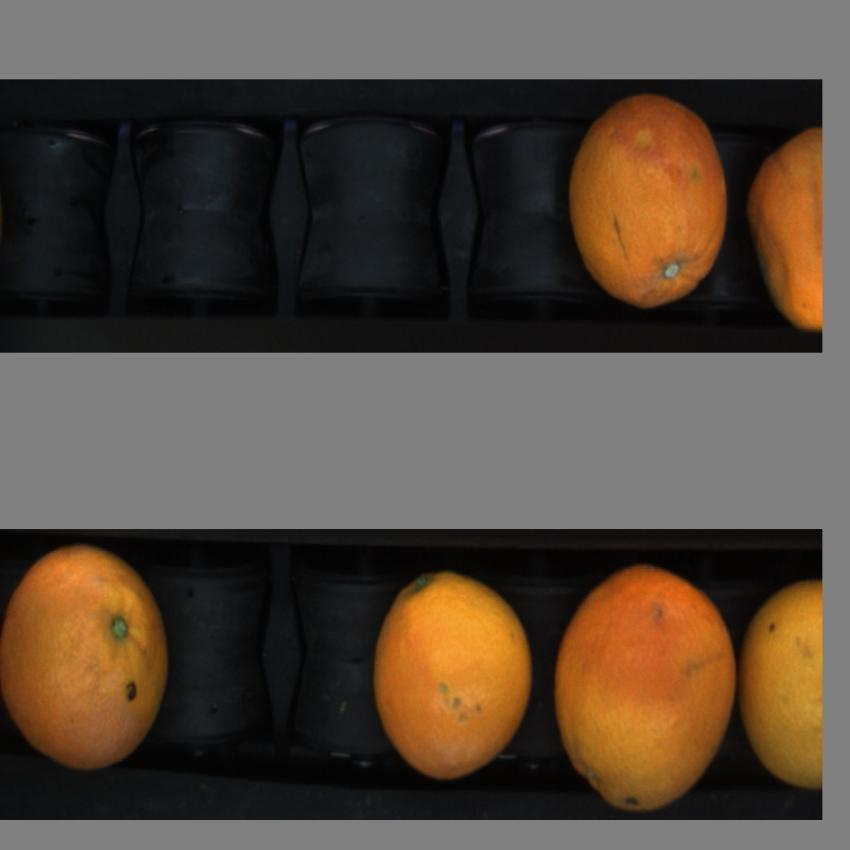Buen estado: (552, 557, 737, 821), (1, 538, 175, 780), (363, 560, 540, 792), (738, 573, 824, 800), (742, 122, 824, 339)
Mal estado: (561, 91, 733, 315)
